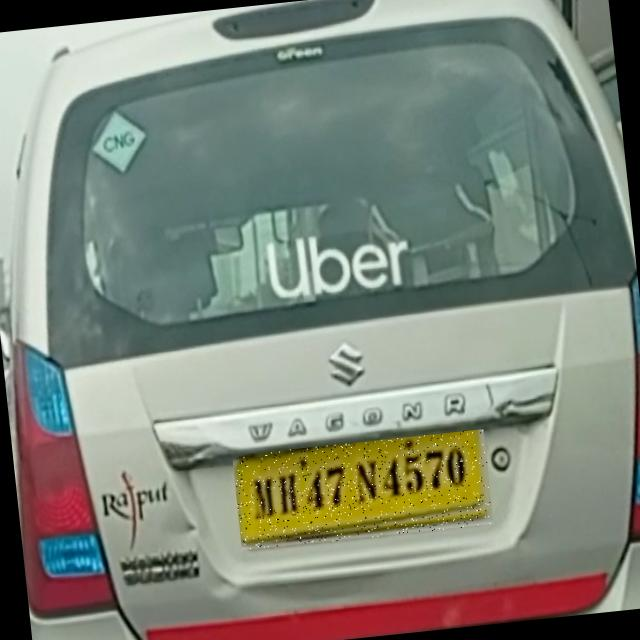Plate: (233, 430, 495, 552)
